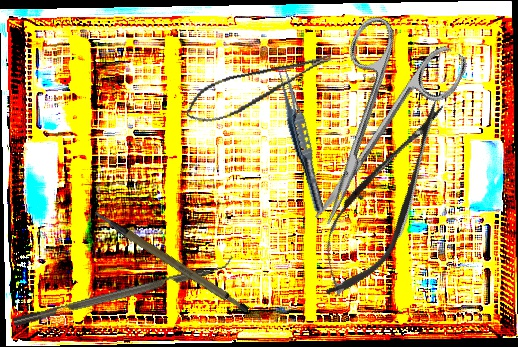Chopper: (9, 251, 237, 327)
Iris Scissors: (268, 5, 472, 247)
Micro Scissor: (299, 85, 469, 312), (180, 48, 340, 130)
Scalpel Handle: (93, 188, 252, 332)
Tissue Forceps: (270, 63, 332, 215)
